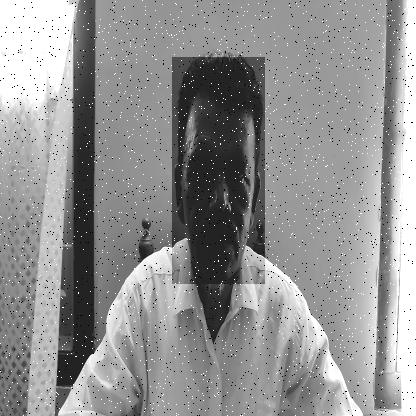Normal: (172, 57, 265, 284)
